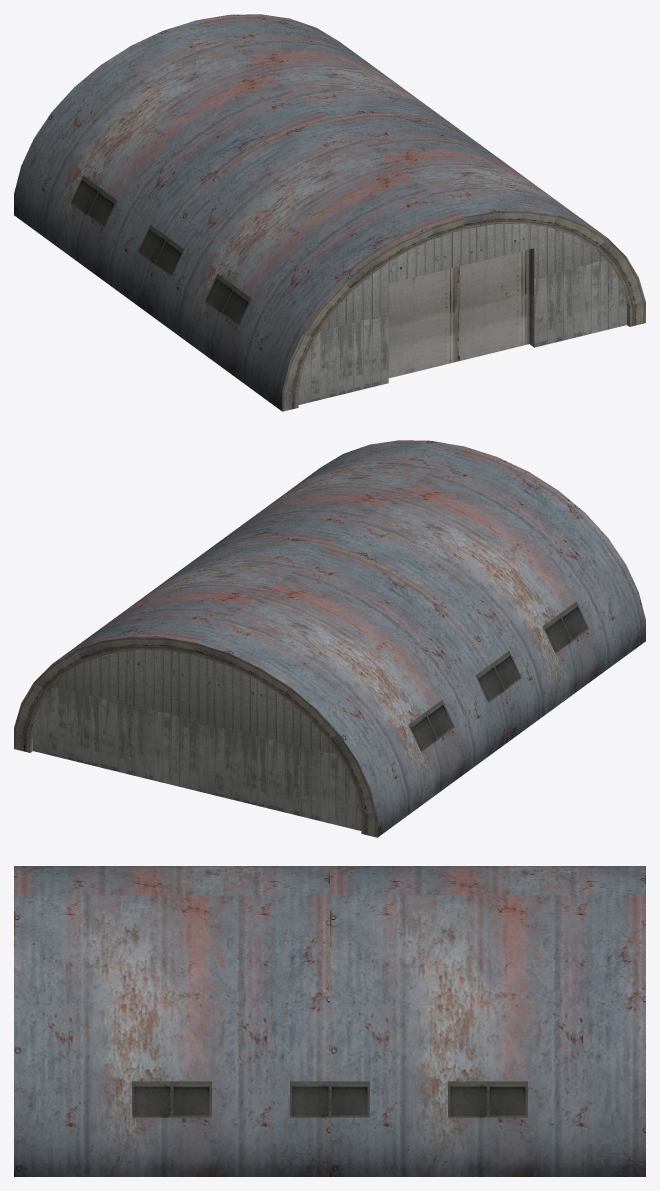
Rendered from rural_quonsethut_1_rural_industrial_walls_flr_1_0.glb.
The picture shows the model from 3 angles, top to bottom: view 1: azimuth 30°, elevation 25°; view 2: azimuth 150°, elevation 25°; view 3: azimuth 270°, elevation 25°; orthographic projection. The views are drawn at different scales.
Visible parts, largest first — view 1: Rural_QuonsetHut_1_Rural_Industrial_Walls_FLR_1_0; view 2: Rural_QuonsetHut_1_Rural_Industrial_Walls_FLR_1_0; view 3: Rural_QuonsetHut_1_Rural_Industrial_Walls_FLR_1_0.
Boxes of the visible parts, x1,y1,x2,y2 form: Rural_QuonsetHut_1_Rural_Industrial_Walls_FLR_1_0: [14, 14, 645, 411]; Rural_QuonsetHut_1_Rural_Industrial_Walls_FLR_1_0: [14, 440, 645, 837]; Rural_QuonsetHut_1_Rural_Industrial_Walls_FLR_1_0: [14, 866, 645, 1176].
Size of the model in its own units: 6.95 by 2.75 by 8.89.
1 material, 1 textured.
